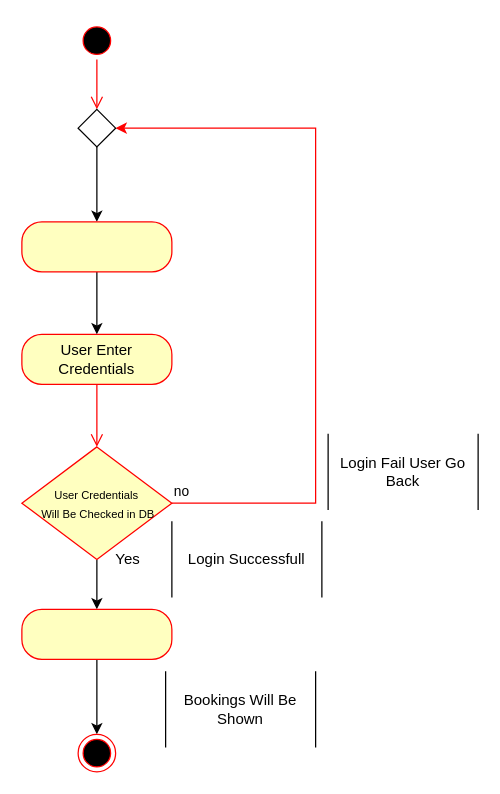
The diagram is 500 pixels wide and 794 high, and some of its shapes have lost their labels. Each missing label, with the centre of its shape:
Click On Login: the point at 96,246
Click On View My Booking: the point at 96,633
